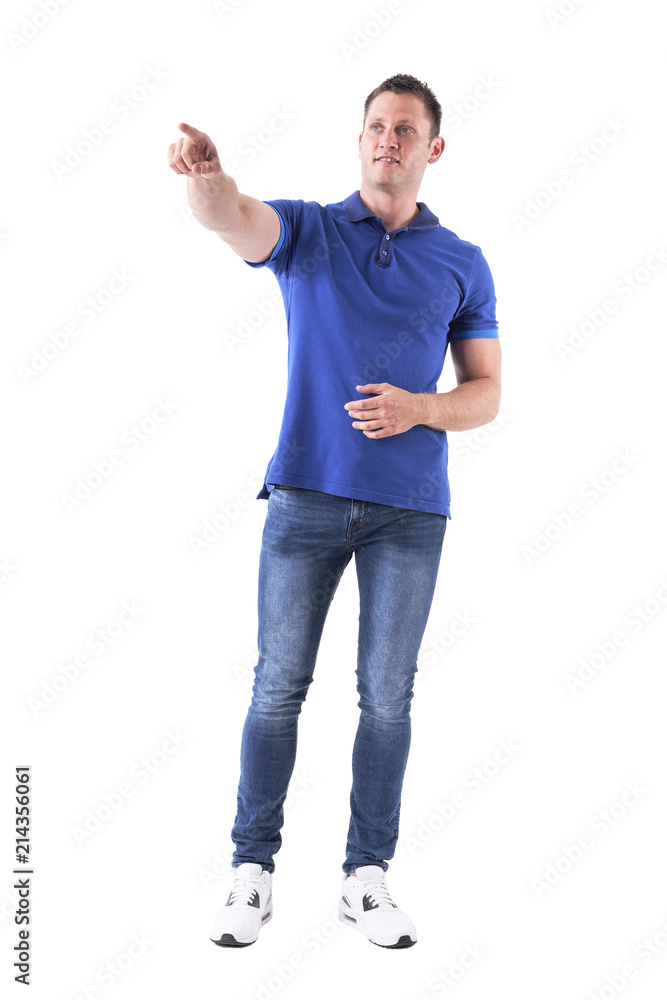pointing_gesture: (156, 121, 223, 180)
